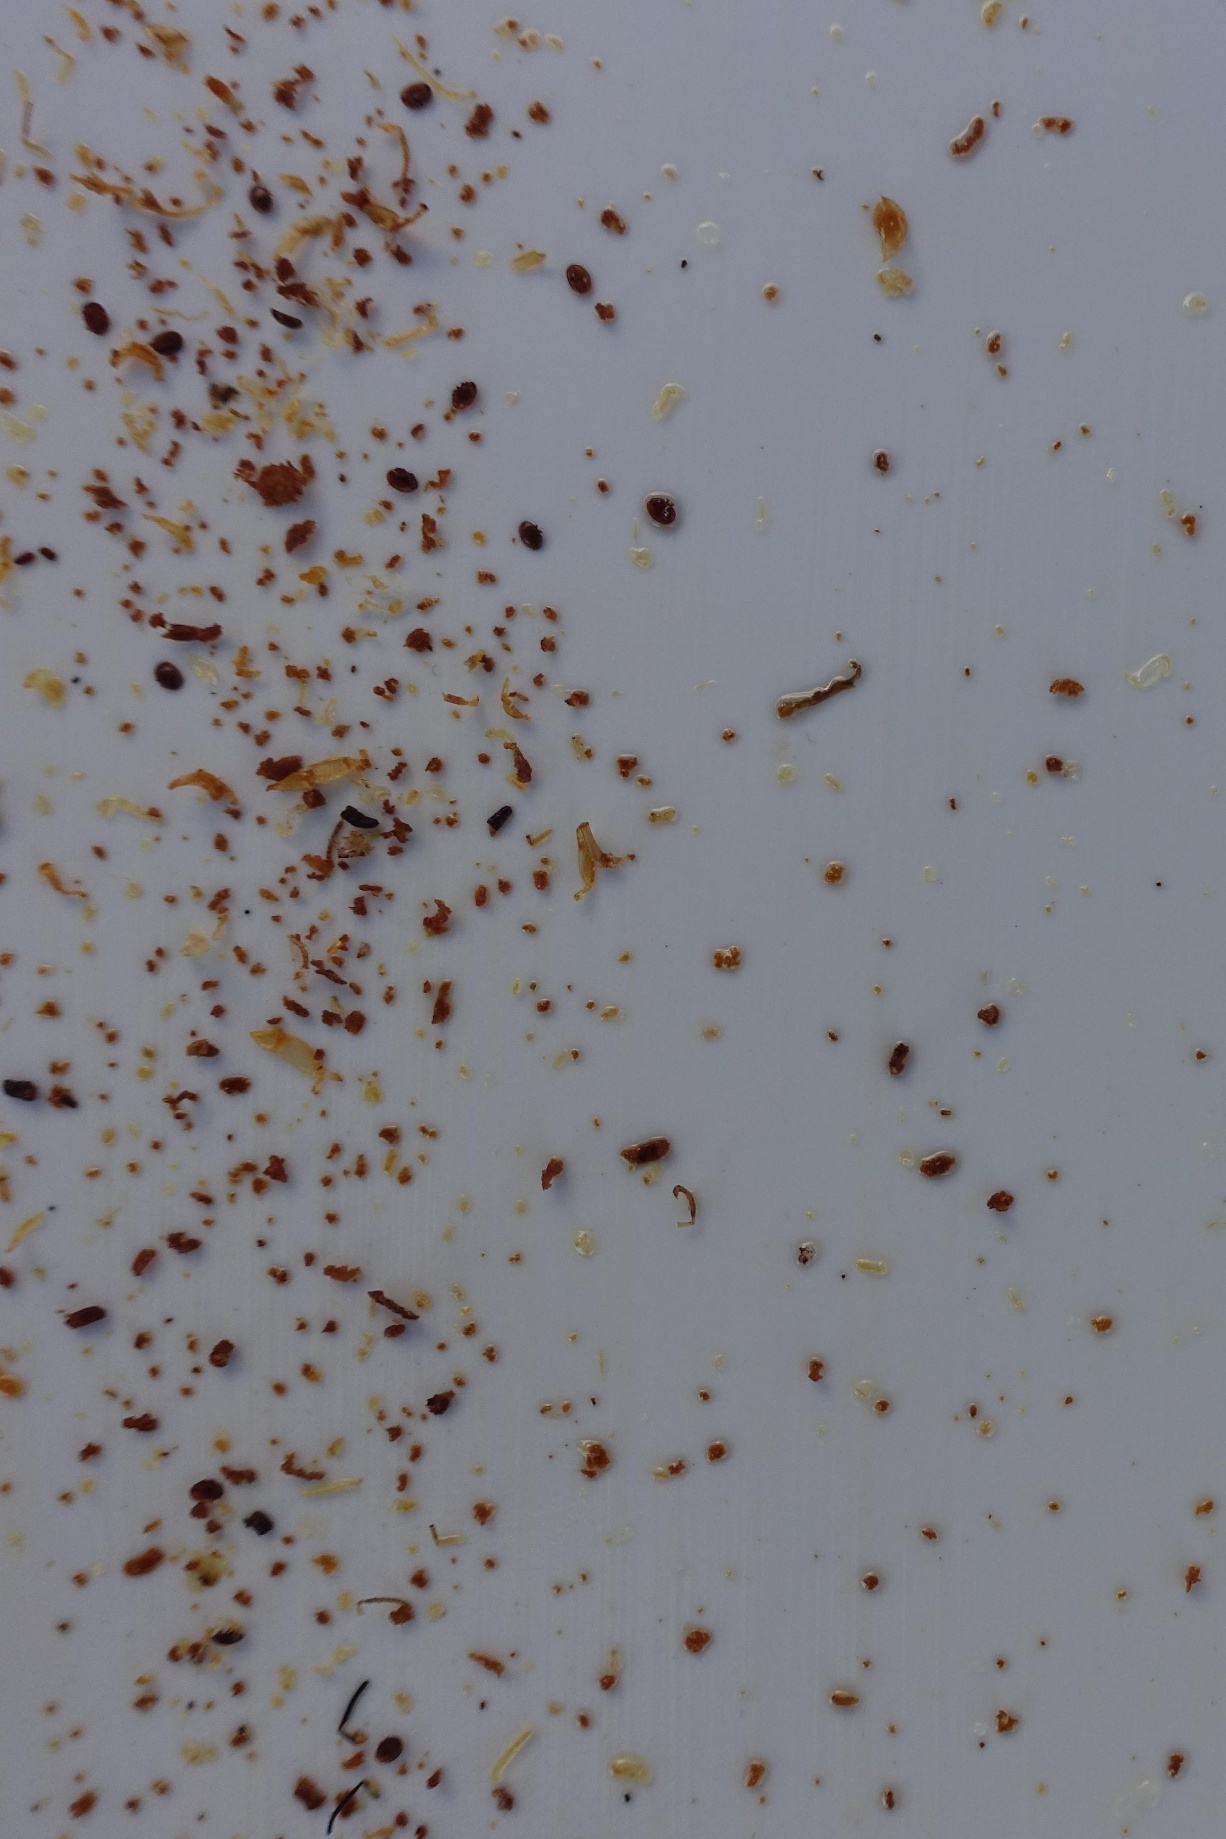Varroa: (208, 1619, 244, 1656), (450, 386, 480, 415), (646, 495, 675, 524), (194, 1476, 222, 1505), (88, 306, 115, 334), (375, 1738, 400, 1764), (156, 668, 181, 692), (409, 89, 432, 114), (521, 523, 545, 547), (572, 263, 595, 286), (252, 187, 274, 209), (391, 473, 412, 493), (157, 328, 177, 348)
